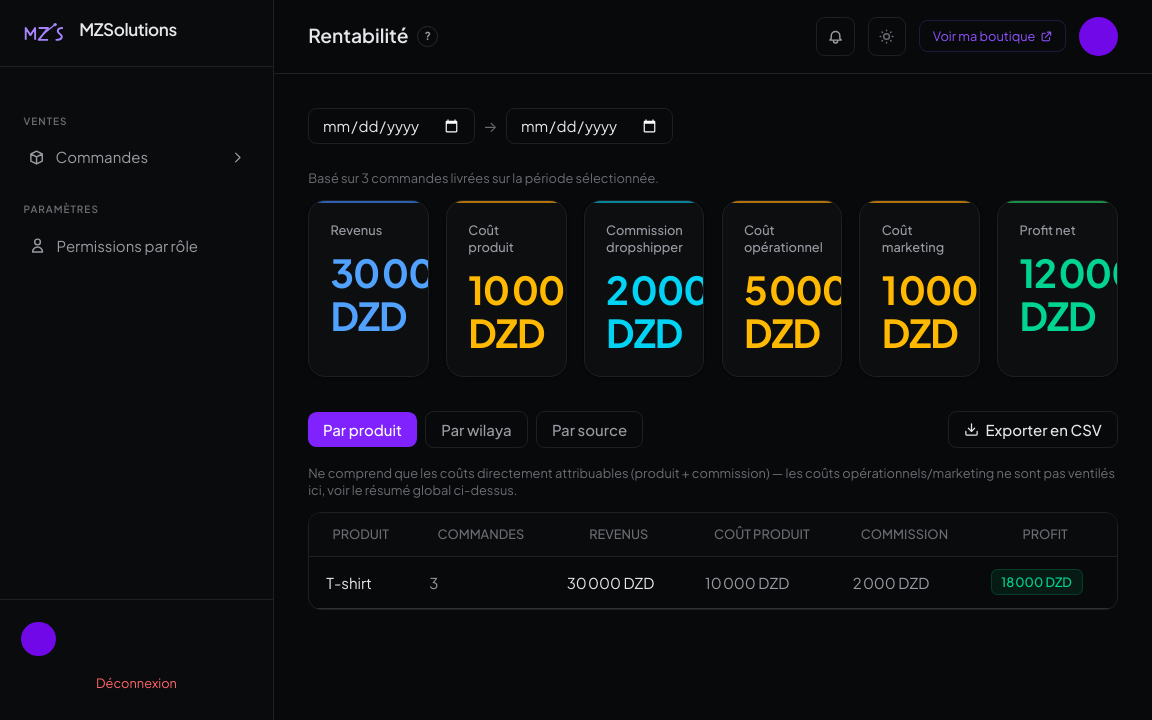
ProfitabilityPage › switches grouping to wilaya and refetches
The width and height of the screenshot is (1152, 720).
Expected: the text "T-shirt" is shown, left=309, top=556, right=412, bottom=608
What coordinates should you click on to do the following:
click the button "Par wilaya"
I would click on:
 (476, 430)
Its box is left=425, top=411, right=528, bottom=448.
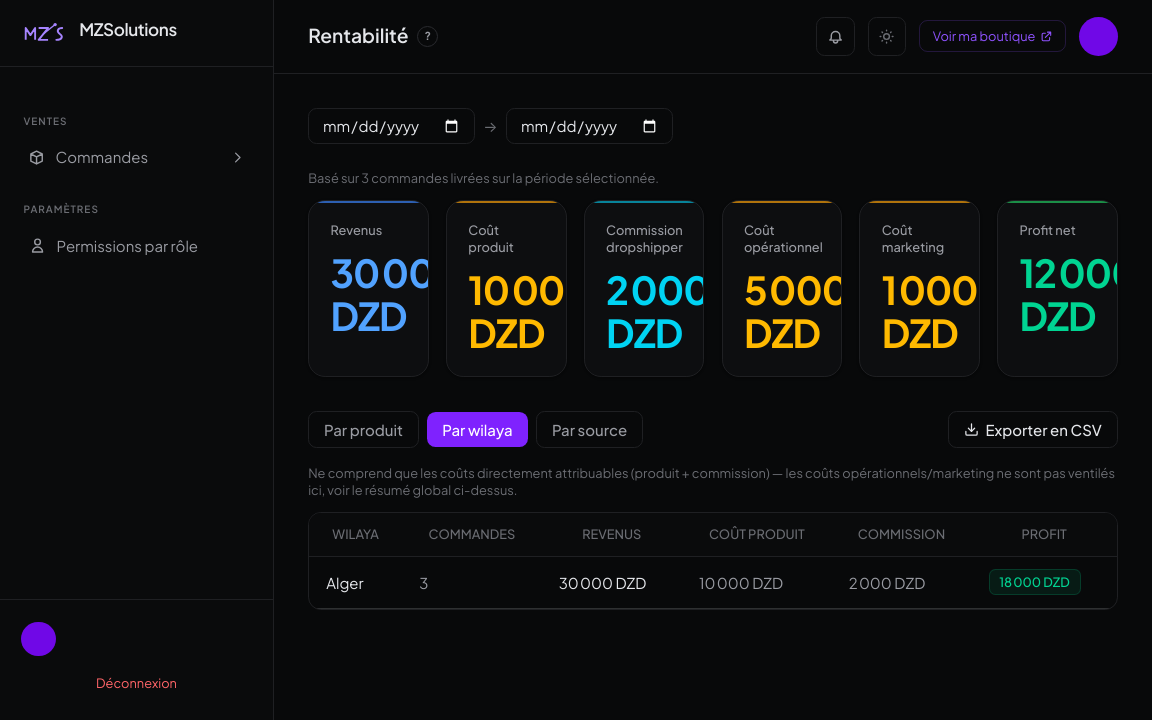
Now the text "Alger" is shown, box left=309, top=556, right=402, bottom=608
